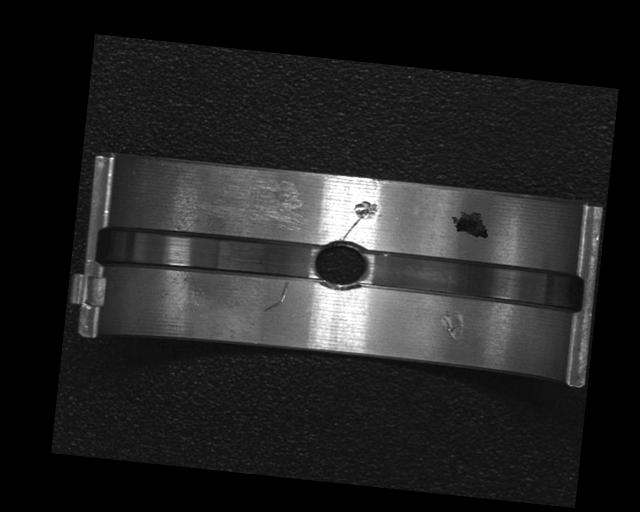blot: (449, 210, 491, 239)
bruise: (436, 308, 468, 344), (350, 200, 380, 221)
gap: (96, 220, 318, 288), (362, 247, 584, 315)
hole: (309, 235, 372, 294)
nick: (262, 279, 289, 313), (339, 213, 364, 244)
scratch: (193, 172, 305, 235)
